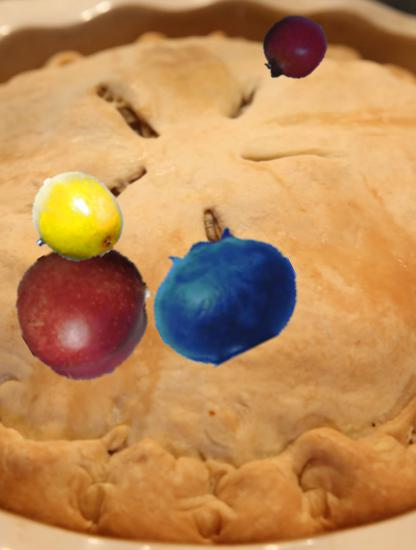Huckleberry: (149, 221, 298, 370)
Maracuja: (26, 171, 122, 267)
Nectarine: (17, 241, 155, 379)
Pomegranate: (258, 13, 329, 84)
